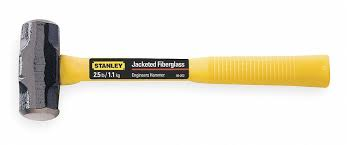hammer: (18, 18, 331, 121)
